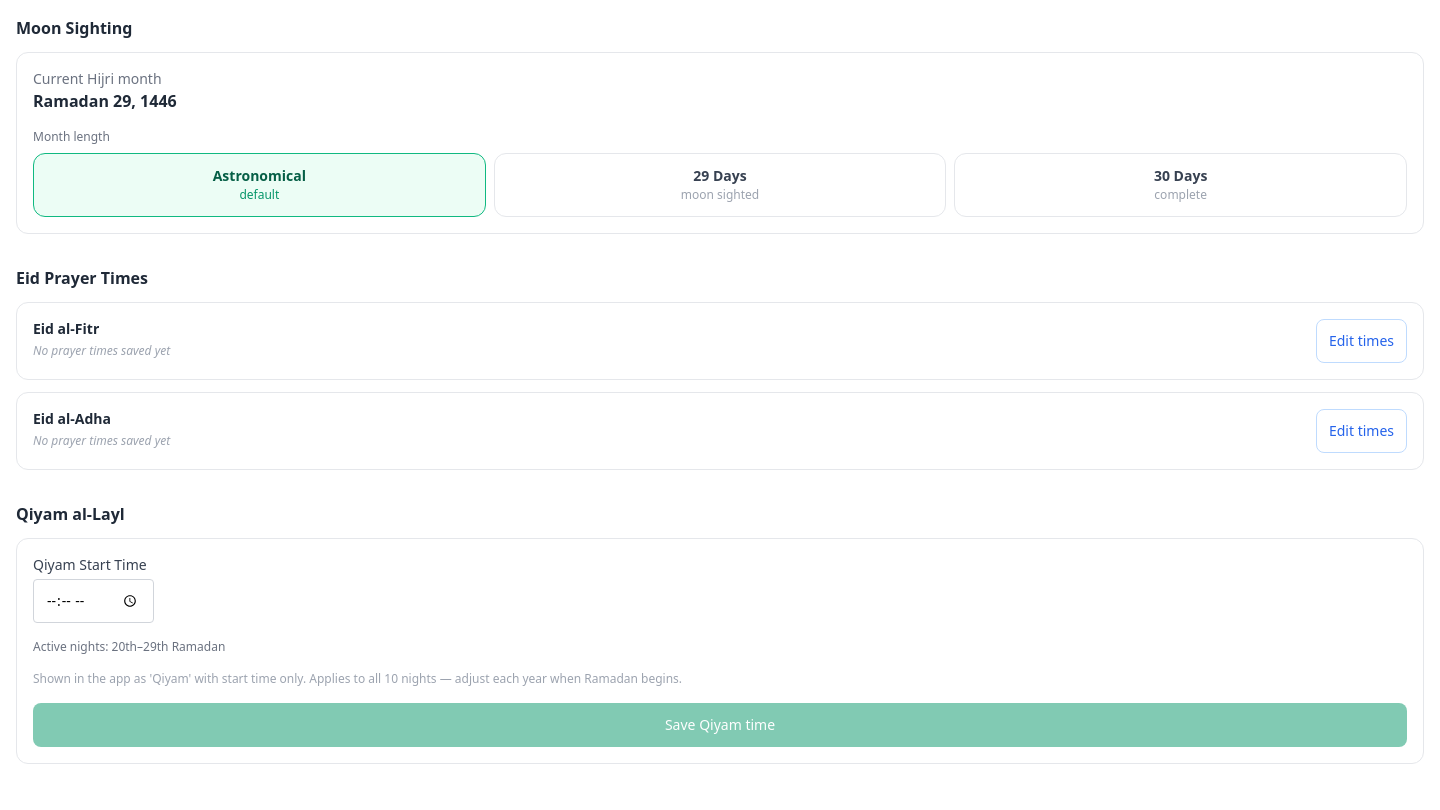
Test: RamadanEidPage — unit tests › opens EidPrayerModal when "Edit times" button is clicked
The image size is (1440, 810).
Click the button with test id "edit-eid-button". click: (1361, 341)
box: [1316, 319, 1407, 363]
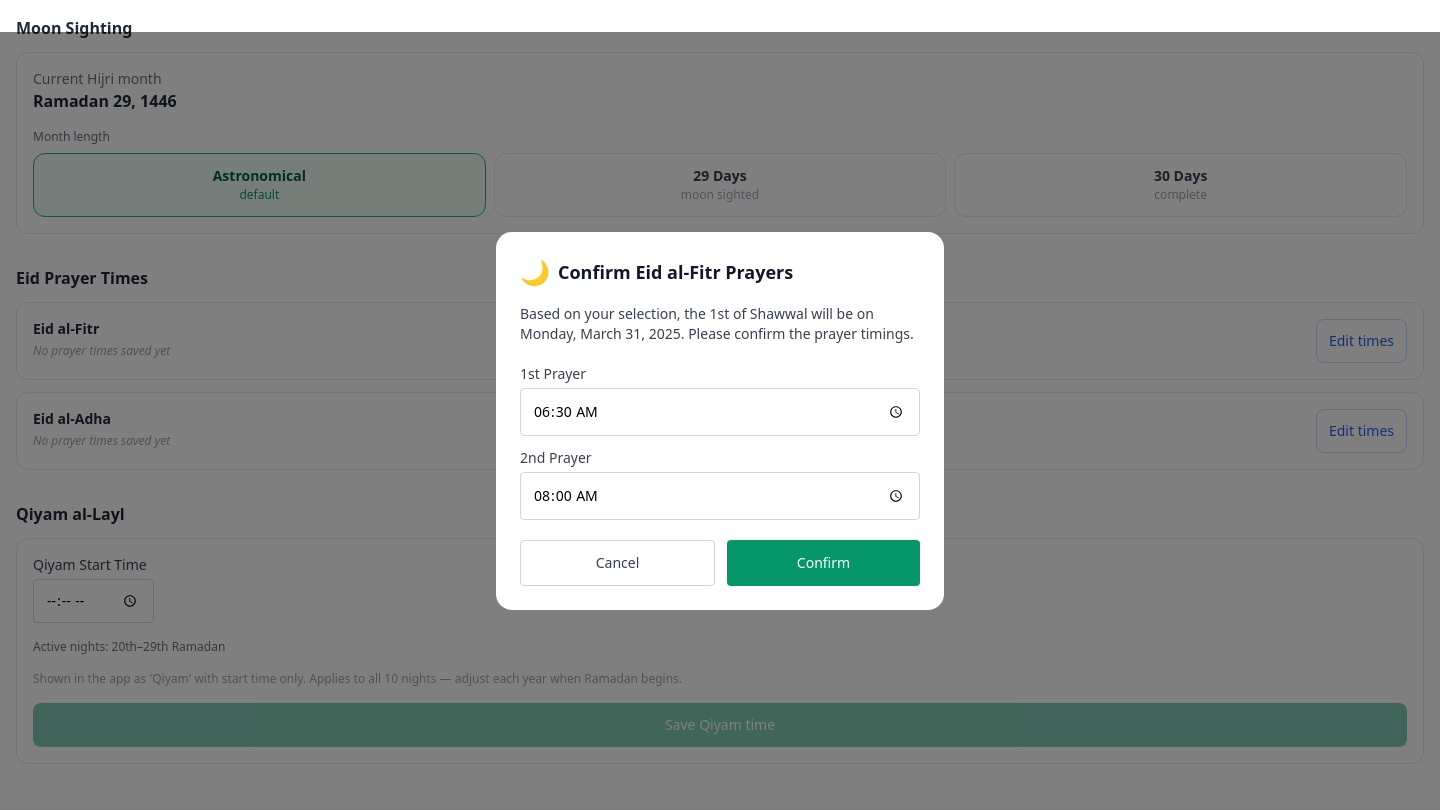
Now the heading "Confirm Eid al-Fitr Prayers" is shown, box [558, 258, 793, 286]
